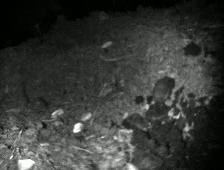corn: (16, 158, 37, 170), (48, 107, 65, 120), (72, 121, 85, 135), (78, 110, 93, 122), (100, 39, 114, 49)
